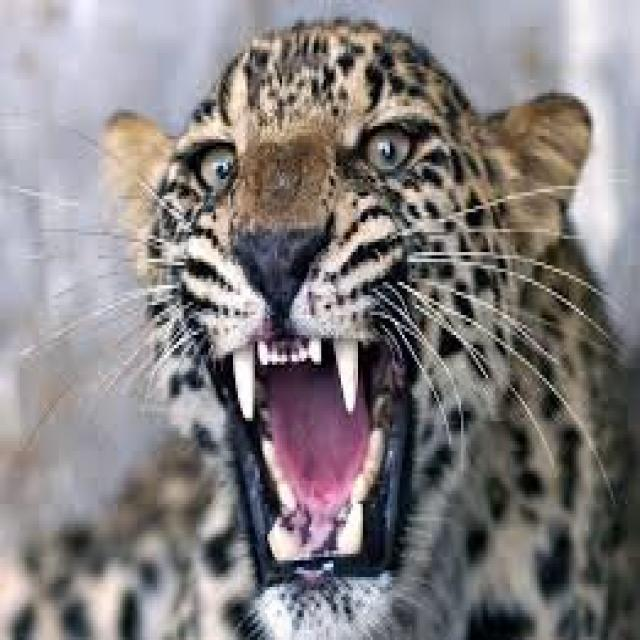Leopard: (95, 12, 640, 640)
